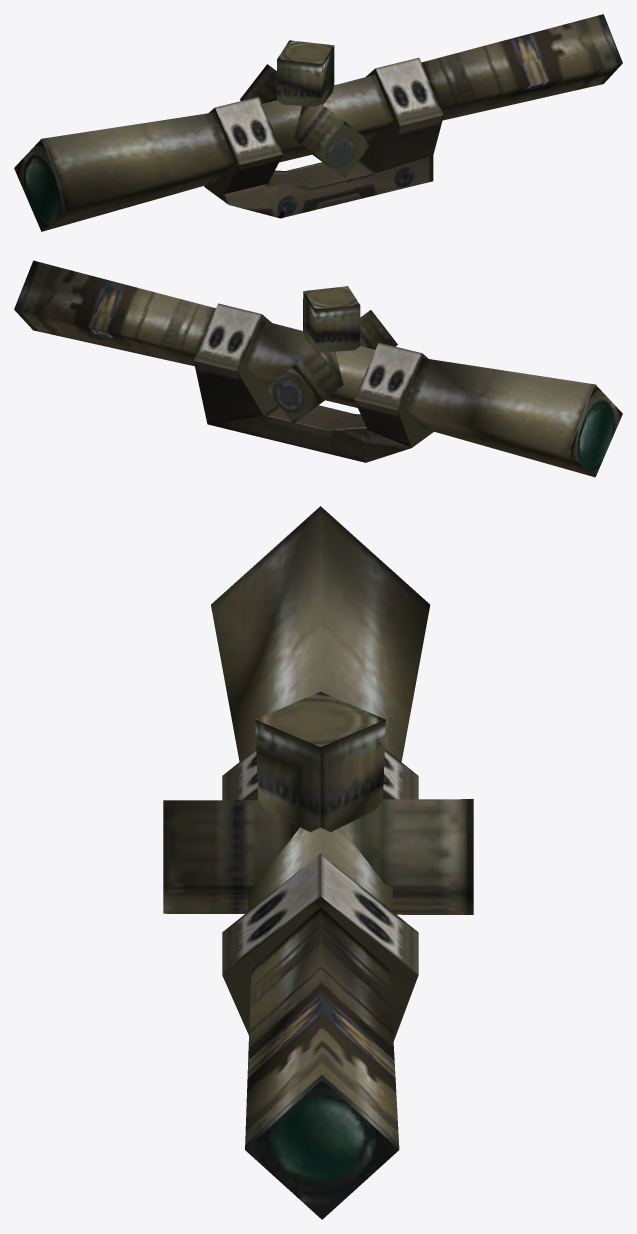
File: Pickup_WeaponMzj06.glb
3 renders of one model, top to bottom at view 1: azimuth 30°, elevation 25°; view 2: azimuth 150°, elevation 25°; view 3: azimuth 270°, elevation 25°, orthographic. The views are drawn at different scales.
Visible parts, largest first — view 1: pk_weapon_mzj06; view 2: pk_weapon_mzj06; view 3: pk_weapon_mzj06.
Part boxes in pixels (x1,y1,x2,y2): pk_weapon_mzj06: (14,14,622,231); pk_weapon_mzj06: (14,260,622,477); pk_weapon_mzj06: (163,506,473,1219).
Size of the model in its own units: 0.4912 by 0.1221 by 0.1176.
1 material, 1 textured.
